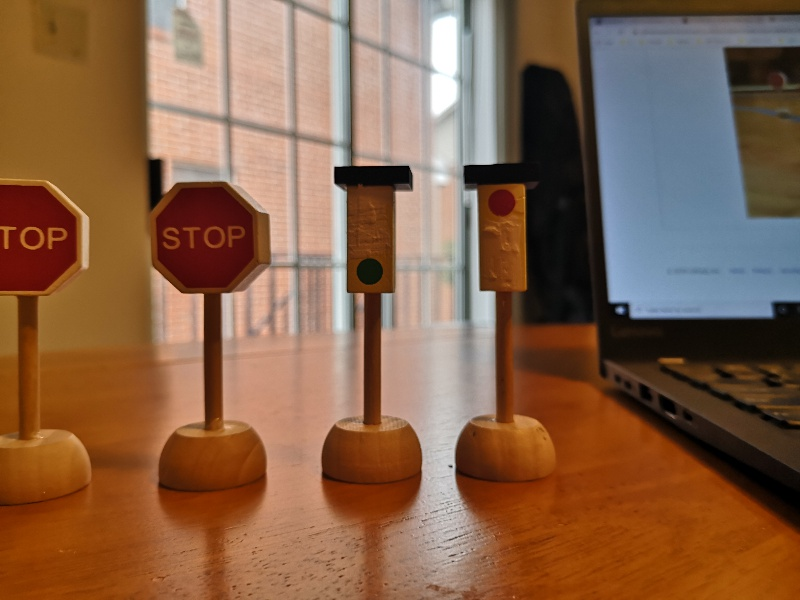Green Traffic Light: (333, 165, 415, 296)
Red Traffic Light: (465, 163, 544, 293)
Stop Sign: (148, 182, 273, 296), (1, 179, 91, 299)
